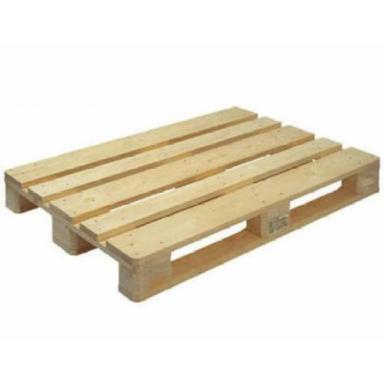pallet: (4, 106, 380, 303)
